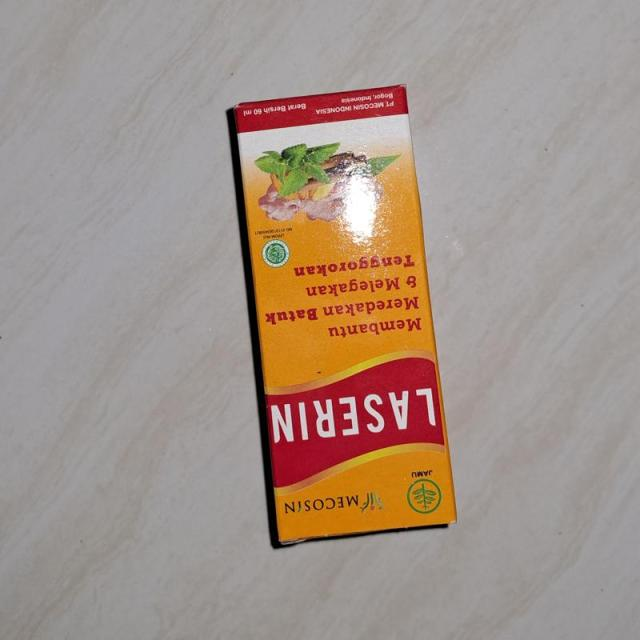Organik: (220, 80, 470, 550)
